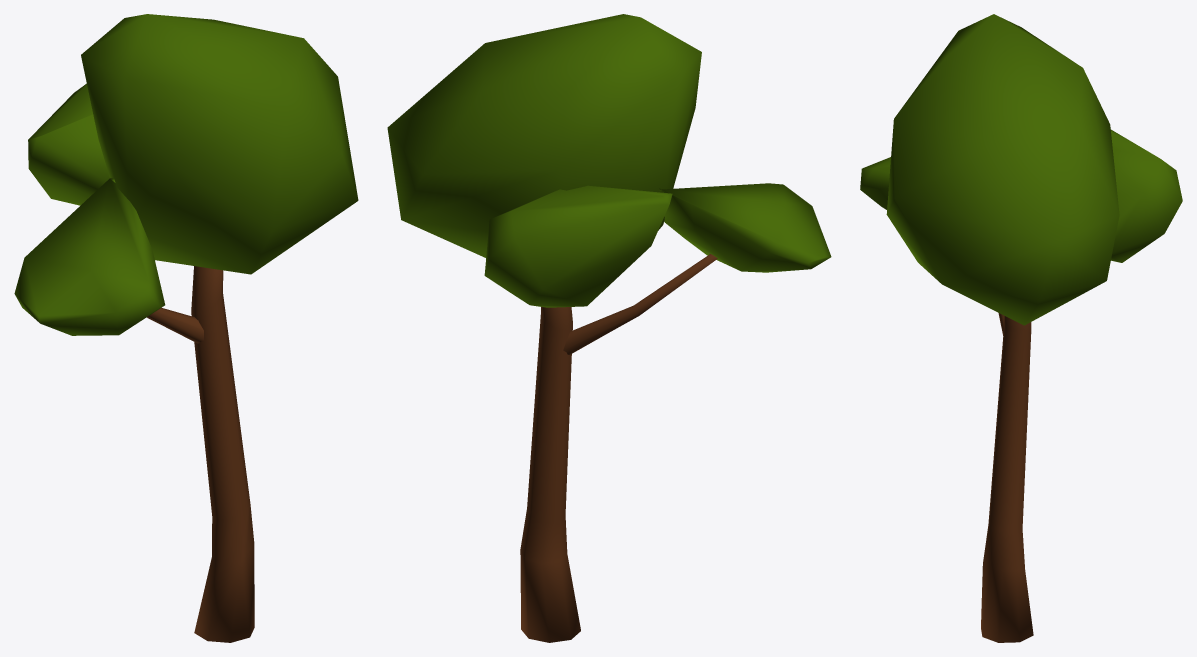
Rendered from tree4.fbx.
The picture shows the model from 3 angles, left to right: view 1: azimuth 30°, elevation 25°; view 2: azimuth 150°, elevation 25°; view 3: azimuth 270°, elevation 25°; orthographic projection. The views are drawn at different scales.
Parts seen in each view (by area): view 1: Circle.014; view 2: Circle.014; view 3: Circle.014.
Boxes of the visible parts, box(x1,y1,x2,y2) form: Circle.014: box(14, 14, 358, 642); Circle.014: box(387, 14, 831, 642); Circle.014: box(860, 14, 1182, 642).
Bounding box in the file's own units: 383 × 624 × 314.
